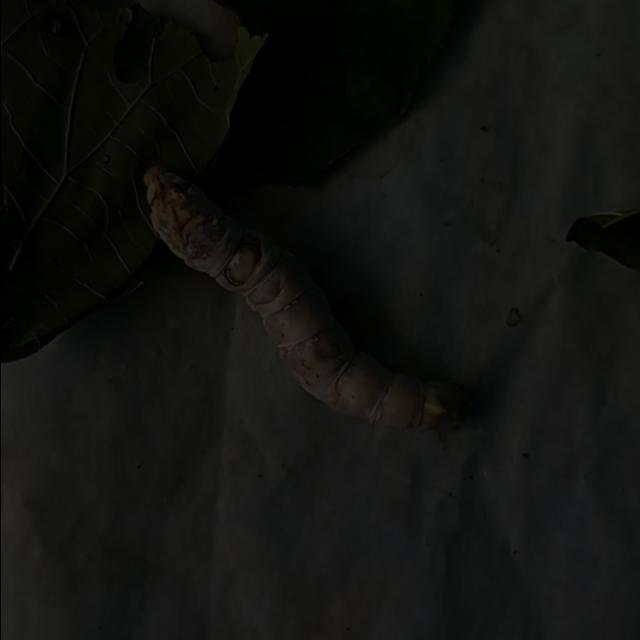Grasserie: (127, 139, 486, 439)
